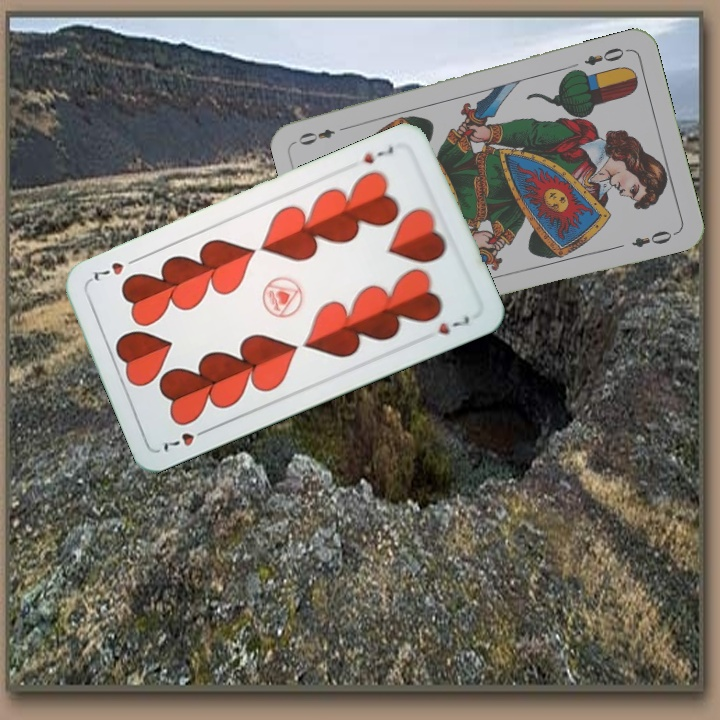EO: (580, 43, 631, 68)
H7: (159, 423, 213, 455), (359, 141, 396, 167)
